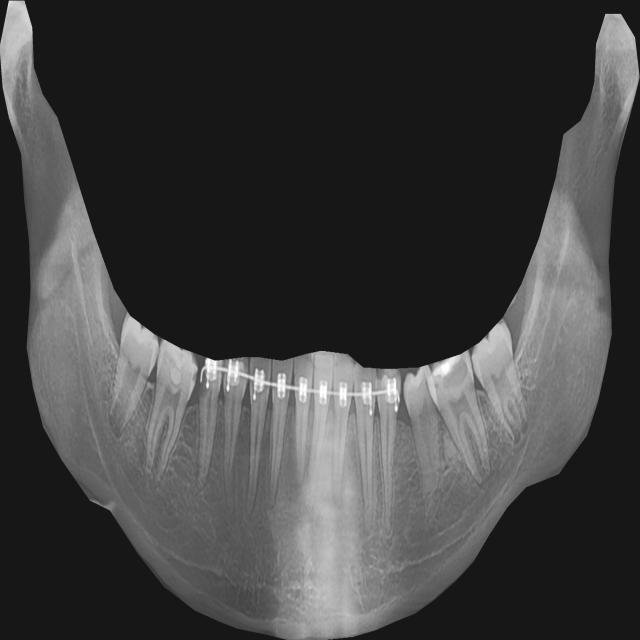mandibula: (0, 1, 640, 640)
